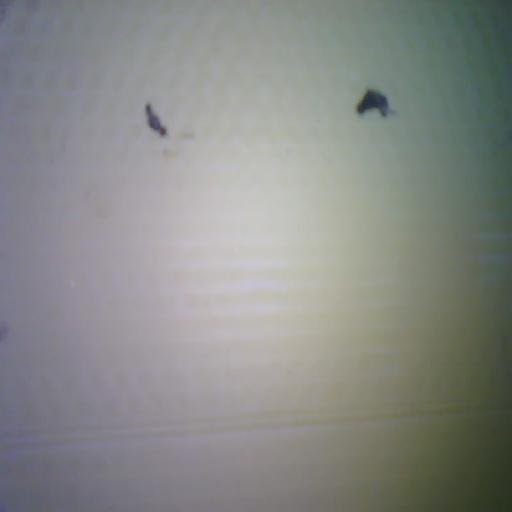Insects: (356, 90, 392, 116), (146, 104, 166, 136)
